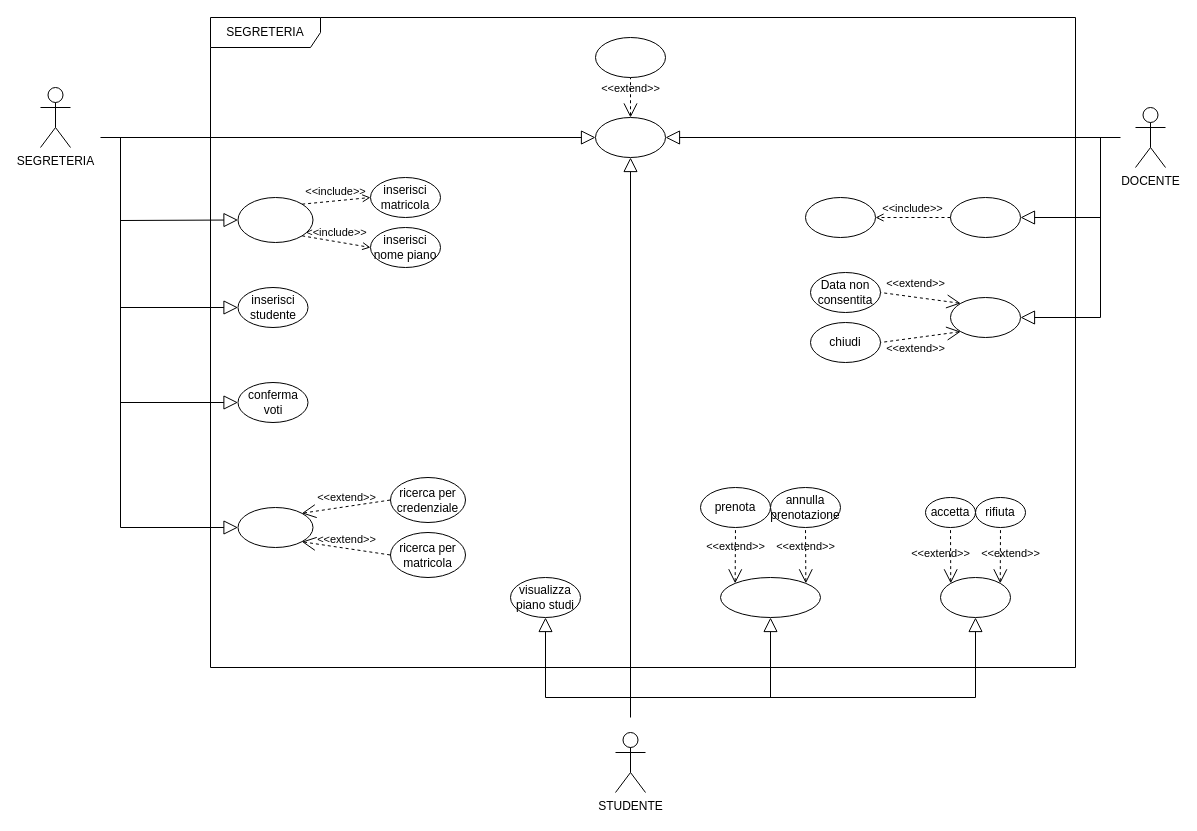
Some shapes in this 1197 by 831 pixel diagram are drawn without their labels. The centre of each missing label's shape, as x and y in pixels:
"cambia piano studente" belongs at point (275, 219).
"Credenziali errate" belongs at point (630, 57).
"inserisci appello" belongs at point (985, 317).
"inserisci voto" belongs at point (985, 217).
"LOGIN" belongs at point (630, 137).
"Ricerca Studente" belongs at point (275, 527).
"seleziona voto" belongs at point (840, 217).
"visualizza esiti" belongs at point (975, 597).
"Visualizza Prenotazioni" belongs at point (770, 597).
